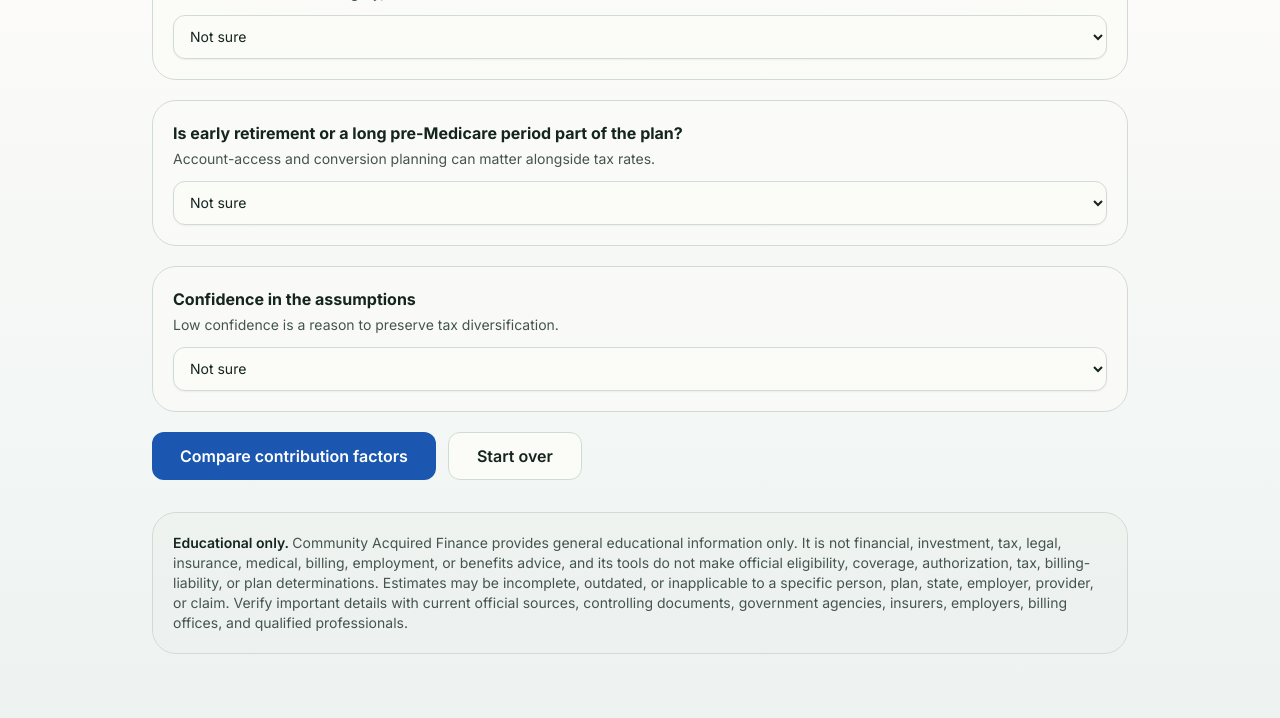
Test case: priority decision journey completion › connects the Roth result to contribution and complete-benefits journeys
(page scrolled)
Click the button "Compare contribution factors" at [294, 456], box [152,432,436,480]
(page scrolled)
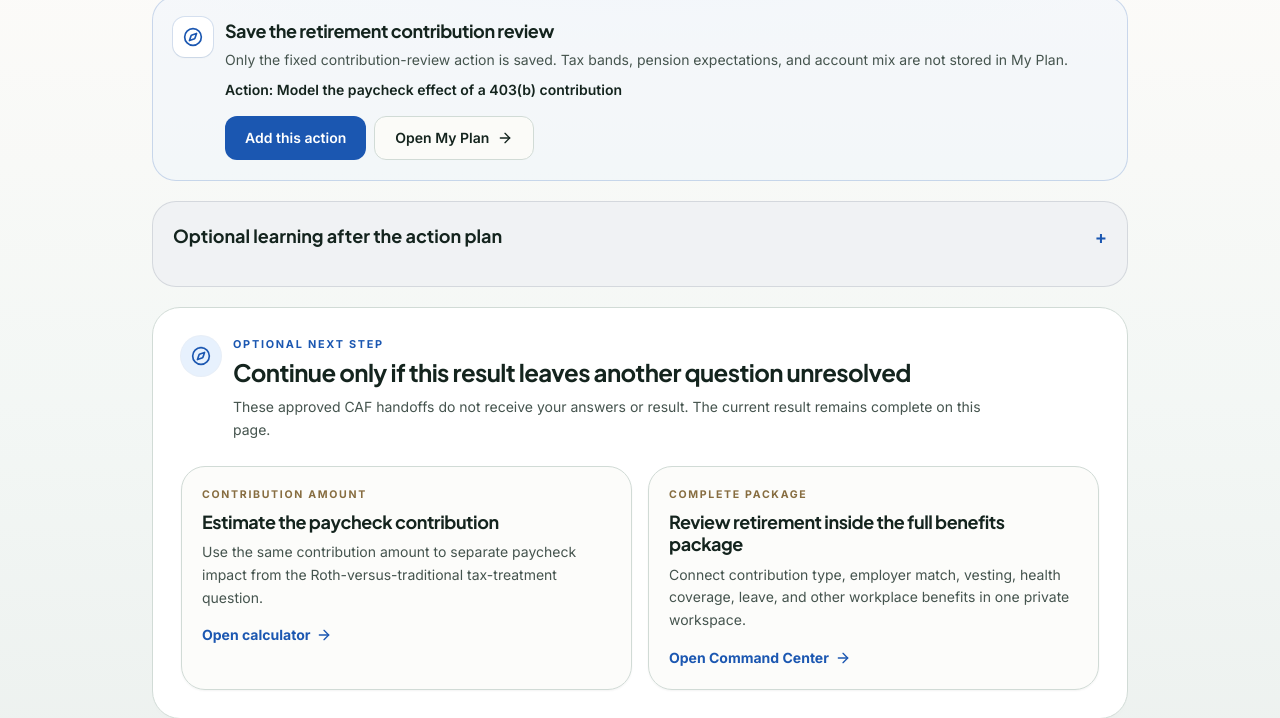
Expected: the heading "Continue only if this result leaves another question unresolved" is shown, [233,356,1001,388]
